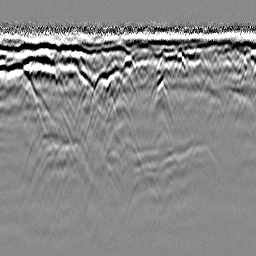cavity: (119, 54, 137, 73)
